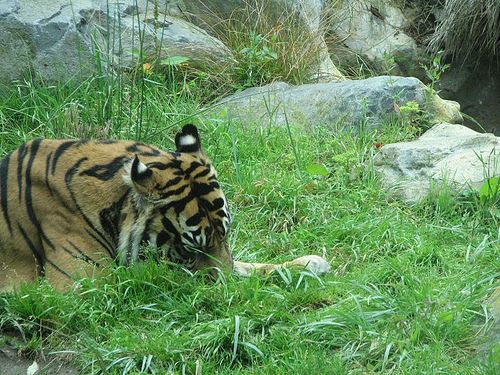Tigre: (11, 123, 249, 293)
